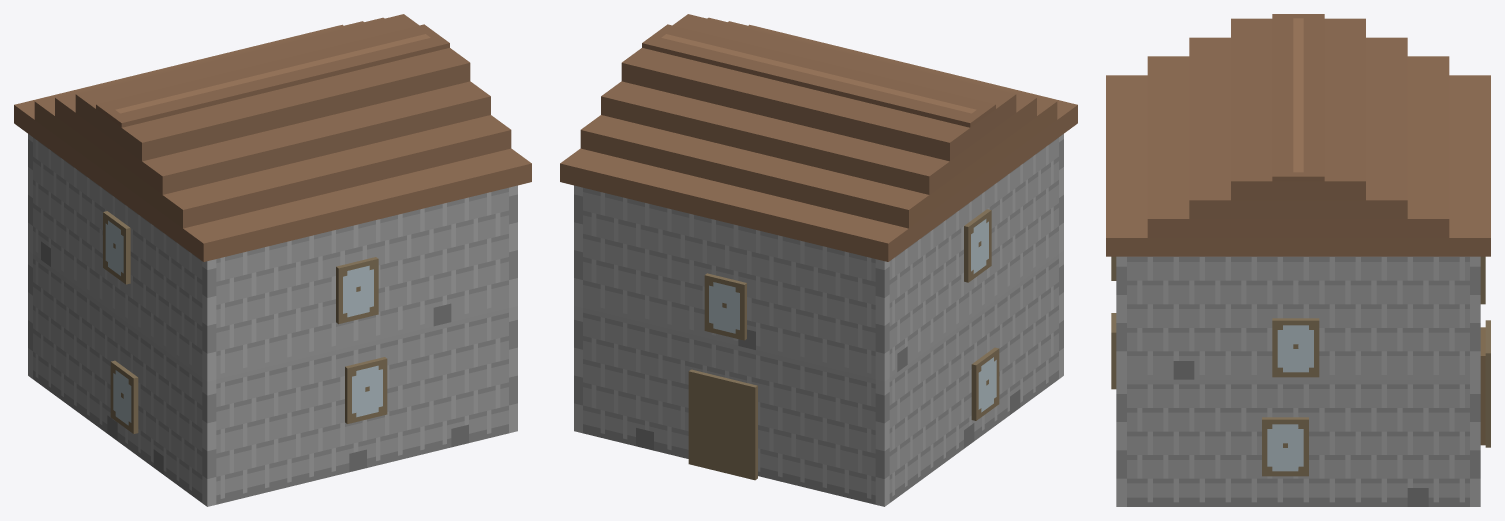
The model's file is molino_02.glb.
The picture shows the model from 3 angles, left to right: view 1: azimuth 30°, elevation 25°; view 2: azimuth 150°, elevation 25°; view 3: azimuth 270°, elevation 25°; orthographic projection.
Parts seen in each view (by area): view 1: molino_02; view 2: molino_02; view 3: molino_02.
Part boxes in pixels (<box>): molino_02: <box>14,14,531,506</box>; molino_02: <box>560,14,1077,506</box>; molino_02: <box>1106,14,1490,506</box>.
Size of the model in its own units: 7.4 by 7.1 by 7.4.
